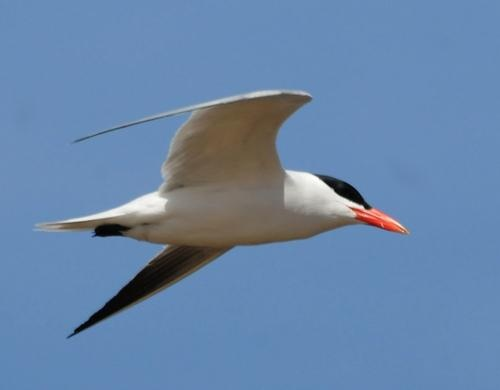bird: (32, 88, 411, 339)
